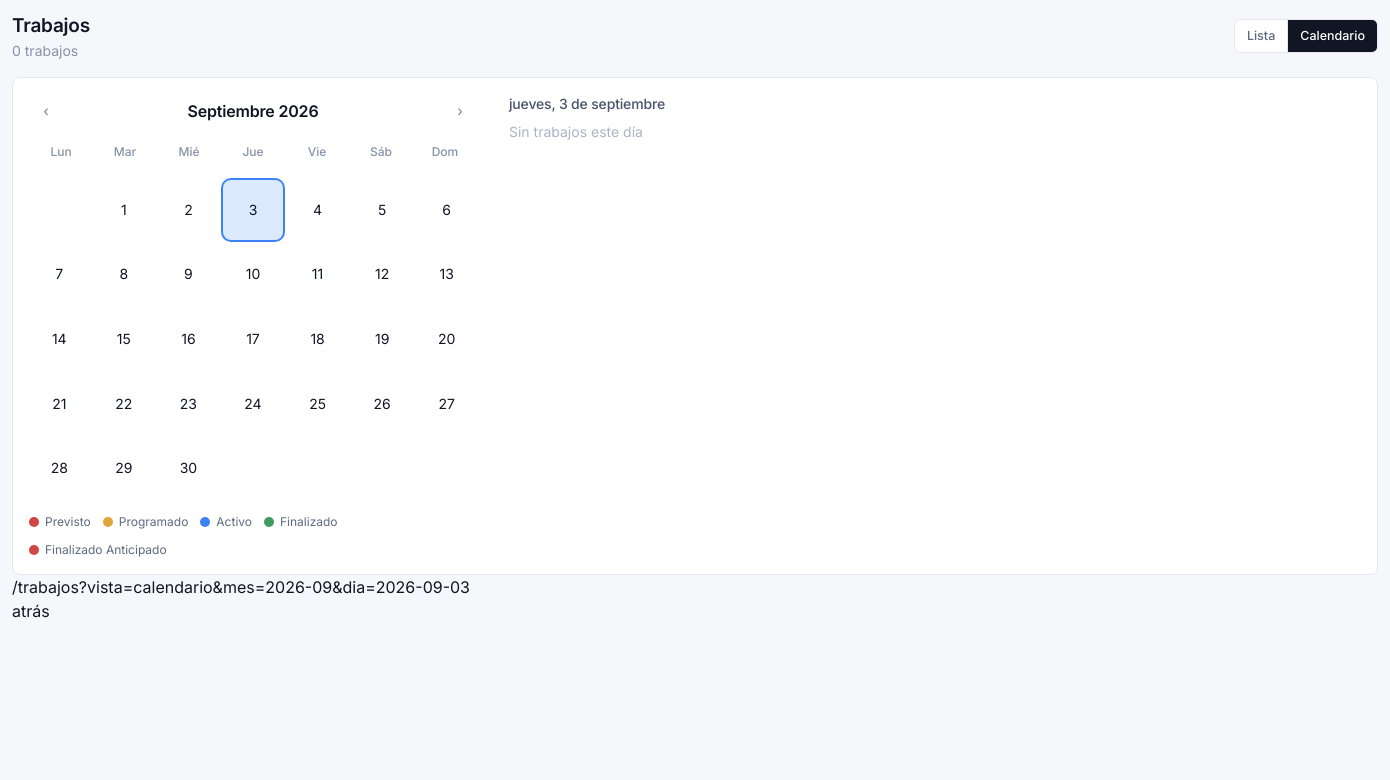
TrabajoList: el calendario sobrevive a abrir un trabajo › «Lista» vuelve a la lista; el calendario se queda apuntado para volver a él
Step 1. Click the button "Lista" → (1262,36), box top-left (1235, 20), bottom-right (1288, 52)
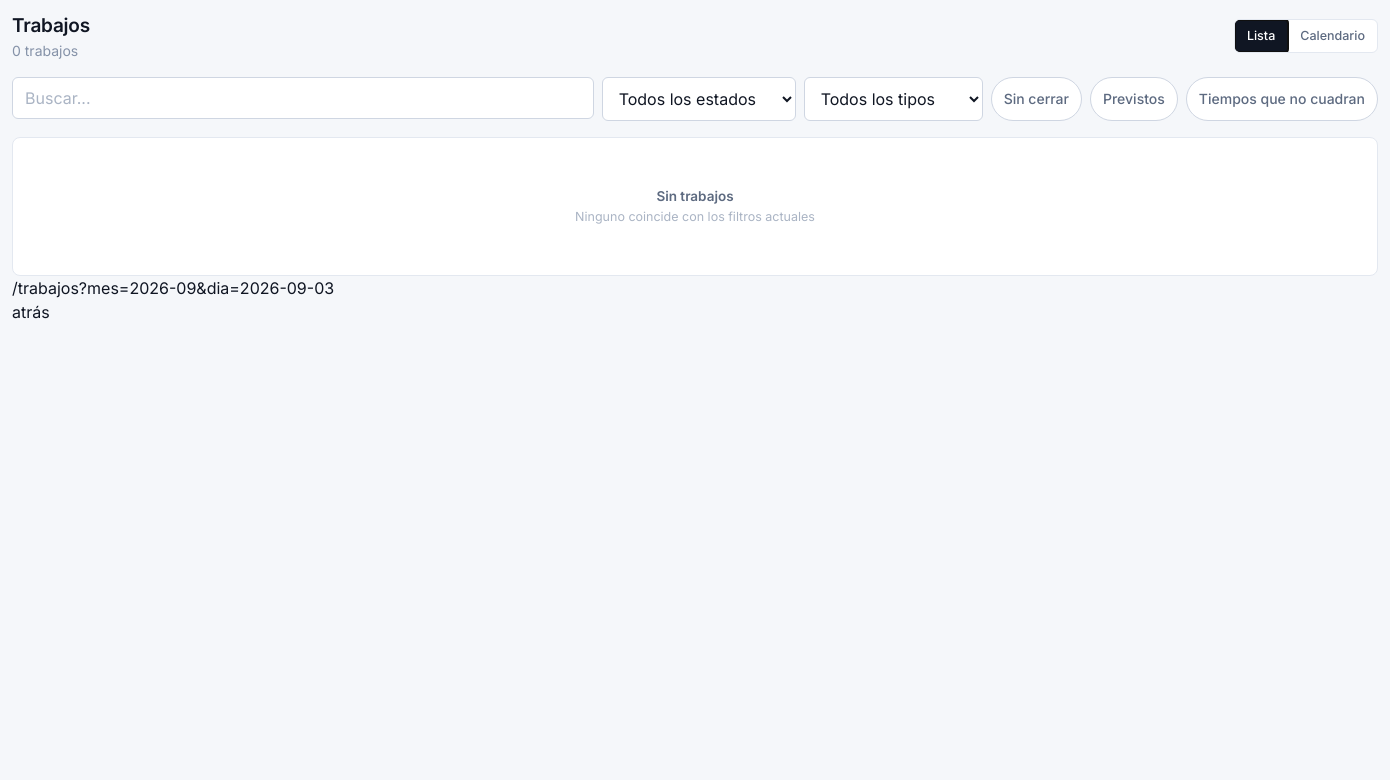
Check: the text with test id "donde" reads "/trabajos?mes=2026-09&dia=2026-09-03", box top-left (12, 278), bottom-right (334, 298)
